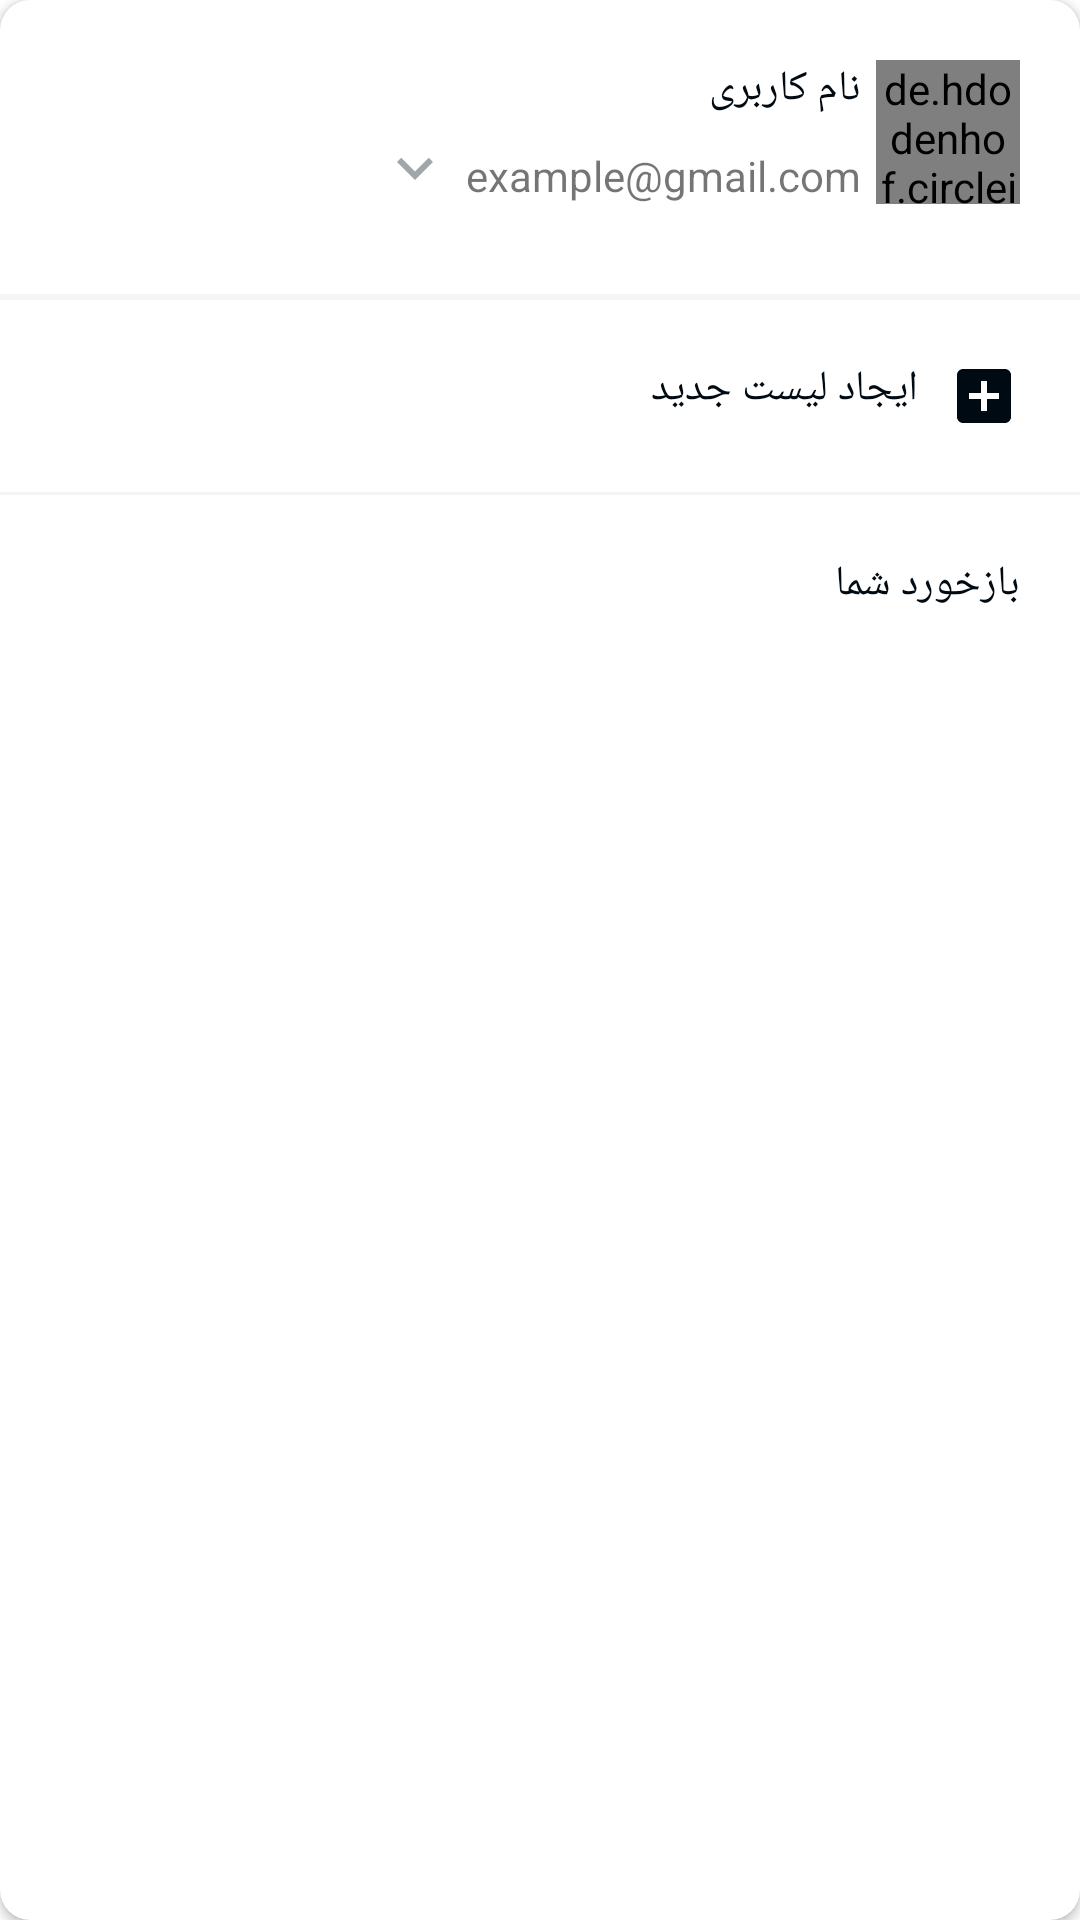

Named icons in this screenshot (1080x1920) and their centers, (x=x, y=y):
expand more: (x=415, y=169)
